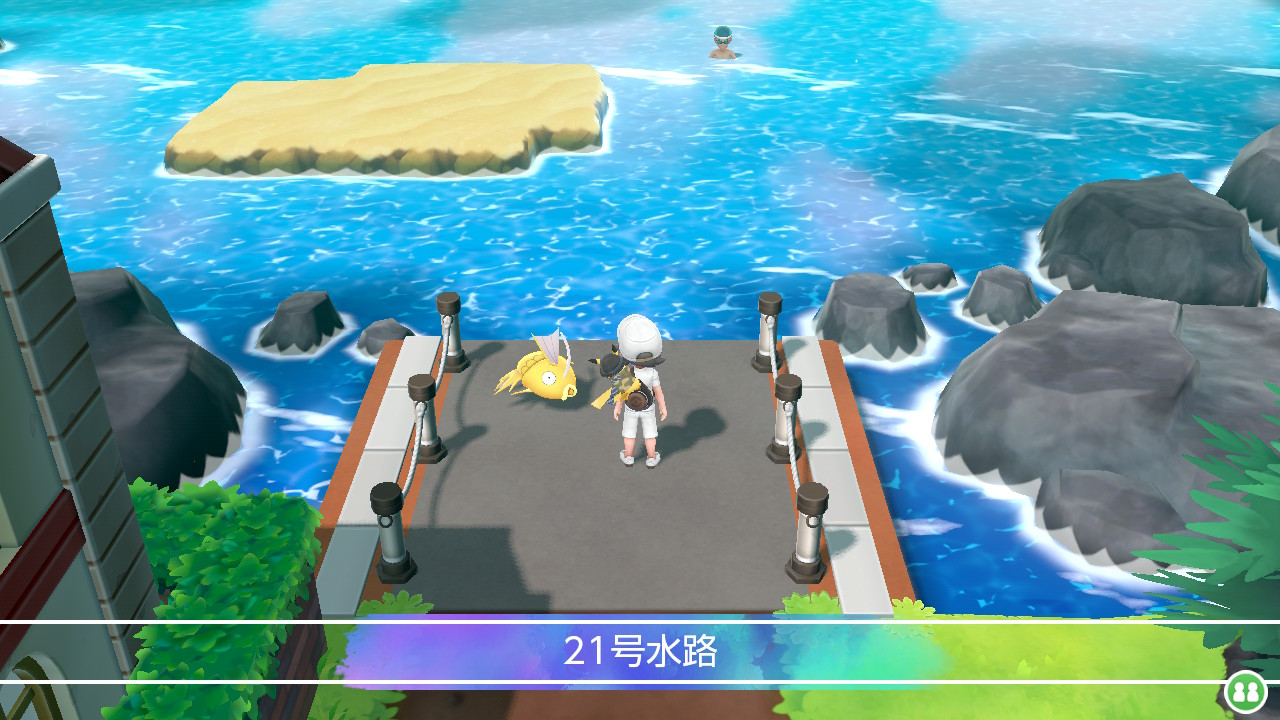Golden: (489, 329, 588, 405)
